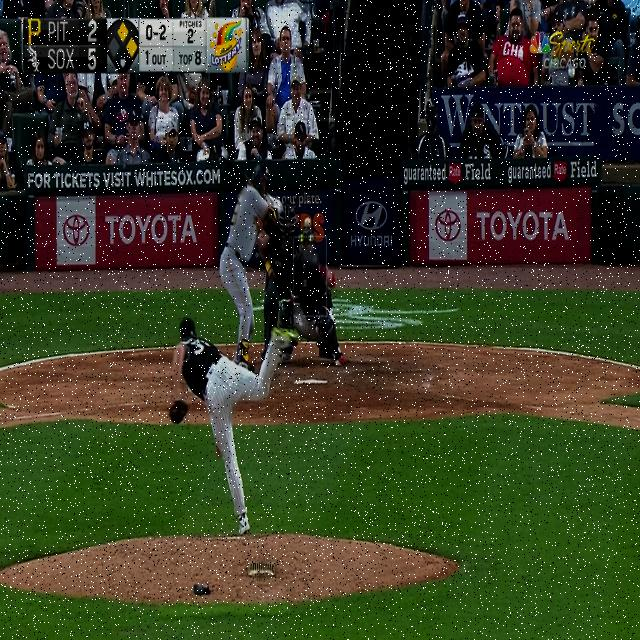baseball: (304, 217, 311, 227)
